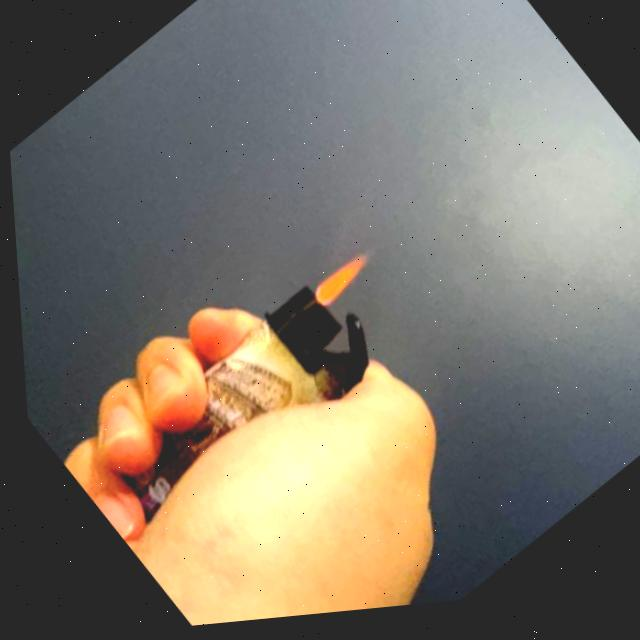Fire: (300, 248, 380, 317)
